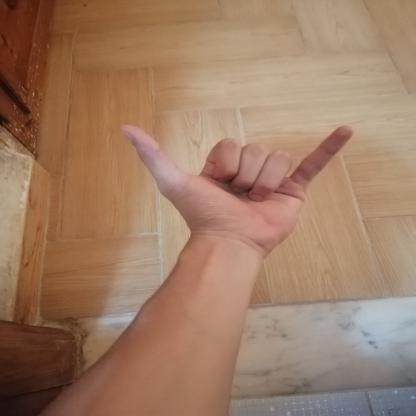YA: (102, 107, 374, 265)
